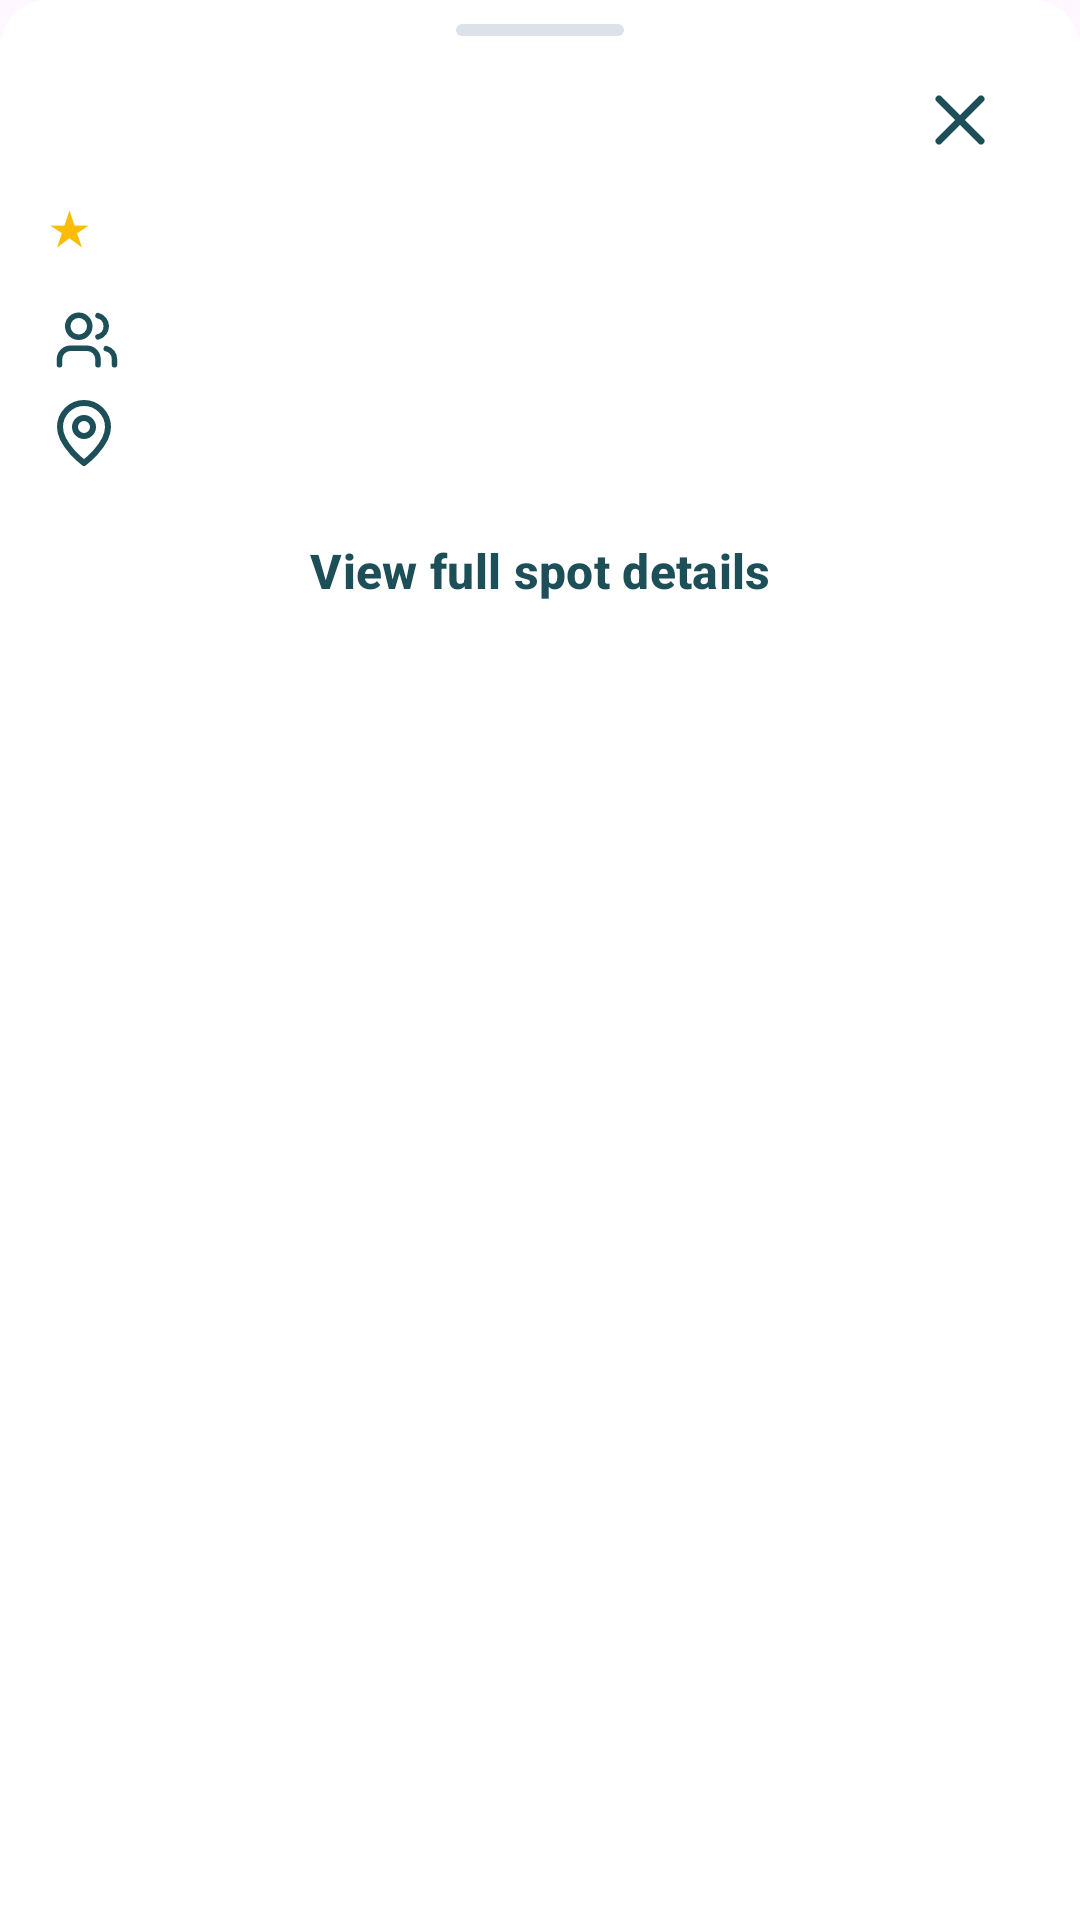

Screen size 1080px x 1920px. Icon name, then its center in pixels as point (x, y):
Close spot preview: point (960, 120)
Location: point (84, 433)
users: point (87, 340)
